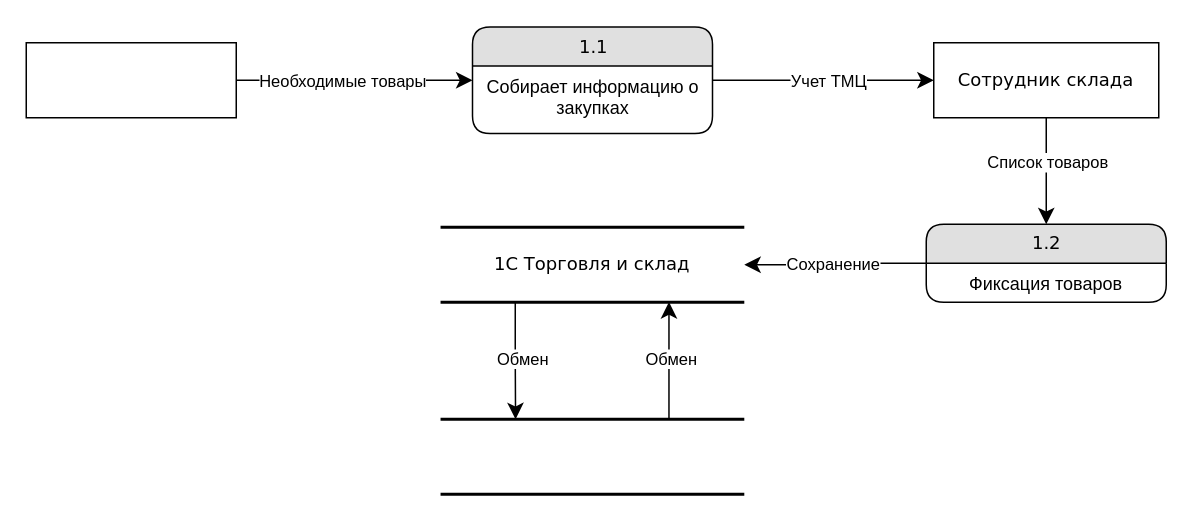
Image size: 1193x521. Some labels were removed from this diagram. Here are the shapes that lost their labels. From the top down, the centre of each, then its label:
At point (130, 79): "Врач".
At point (591, 456): "1C Бухгалтерия предприятия".
